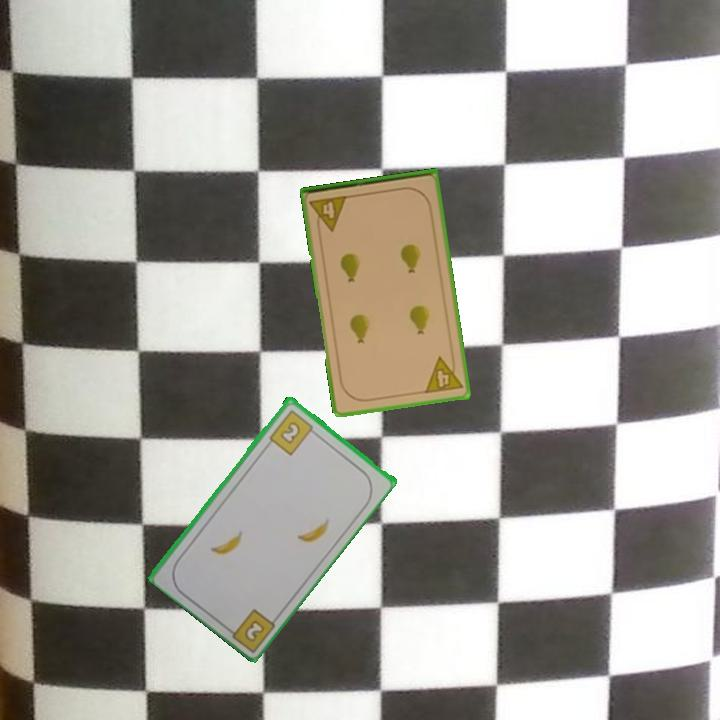2b: (265, 406, 319, 458), (240, 616, 268, 645)
4p: (421, 352, 465, 396), (306, 192, 350, 235)
